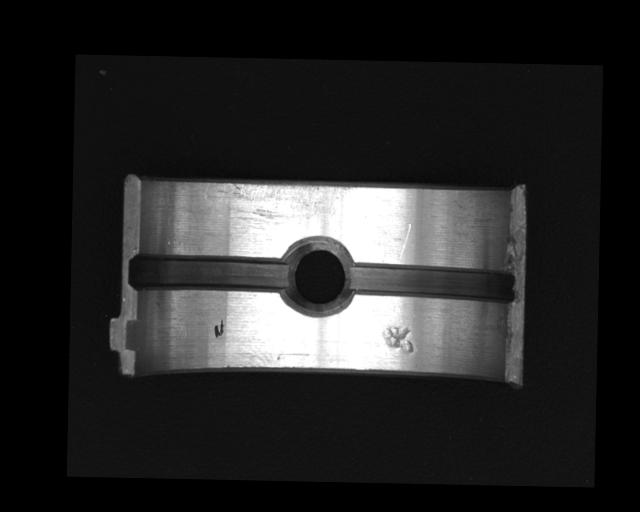blot: (213, 317, 225, 340)
bruise: (381, 324, 415, 355)
gap: (346, 261, 516, 306), (128, 254, 293, 294)
hole: (279, 236, 357, 316)
nick: (397, 222, 411, 263)
scratch: (200, 180, 357, 227)
